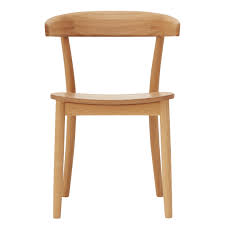tiyarina: (40, 7, 188, 225)
